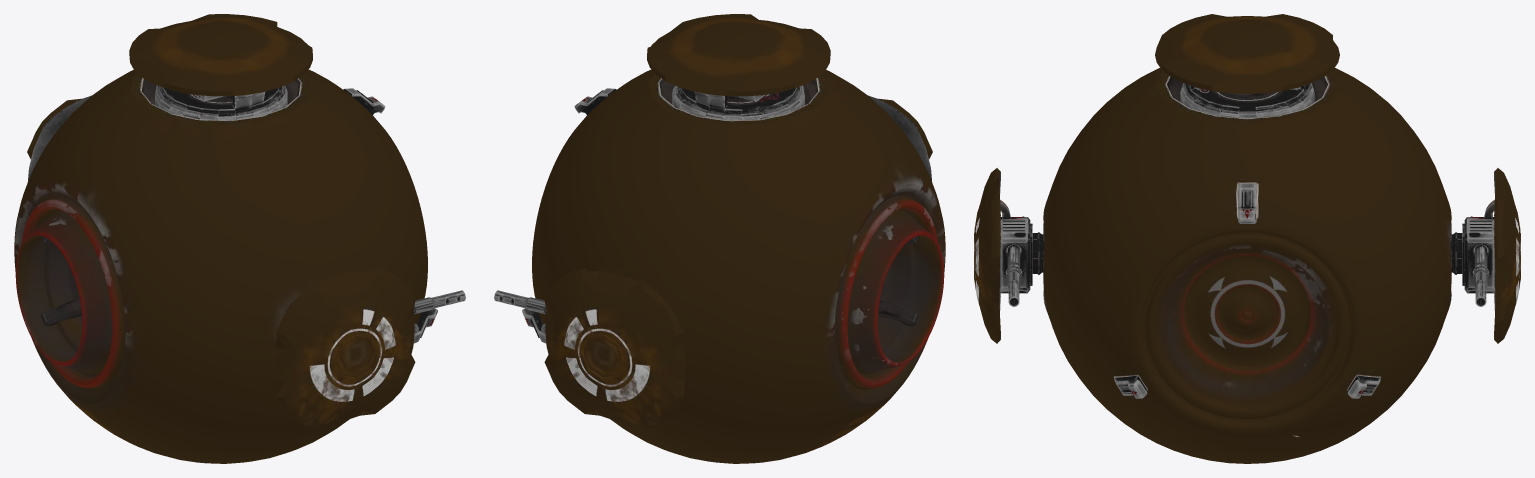
The model's file is drone-transformed.glb.
3 renders of one model, left to right at view 1: azimuth 30°, elevation 25°; view 2: azimuth 150°, elevation 25°; view 3: azimuth 270°, elevation 25°, orthographic.
Parts seen in each view (by area): view 1: Drone.Weapon1_M1Robot_0, Drone.Head, Drone.Weapon1_M2Robot_0; view 2: Drone.Weapon1_M1Robot_0, Drone.Head, Drone.Weapon1_M2Robot_0; view 3: Drone.Weapon1_M1Robot_0, Drone.Head, Drone.Weapon1_M2Robot_0.
Boxes of the visible parts, x1,y1,x2,y2 form: Drone.Weapon1_M1Robot_0: (14, 69, 427, 463); Drone.Head: (129, 14, 312, 120); Drone.Weapon1_M2Robot_0: (28, 78, 465, 343); Drone.Weapon1_M1Robot_0: (532, 69, 945, 463); Drone.Head: (647, 14, 830, 120); Drone.Weapon1_M2Robot_0: (494, 78, 931, 343); Drone.Weapon1_M1Robot_0: (974, 68, 1520, 463); Drone.Head: (1155, 14, 1339, 118); Drone.Weapon1_M2Robot_0: (999, 77, 1495, 398).
Size of the model in its own units: 1.44 by 1.69 by 2.04.
2 materials, 2 textured.
